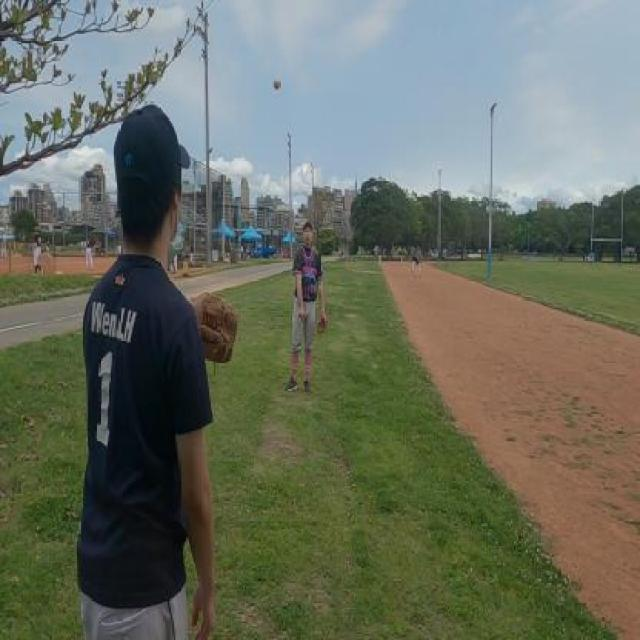baseball: (273, 76, 281, 90)
